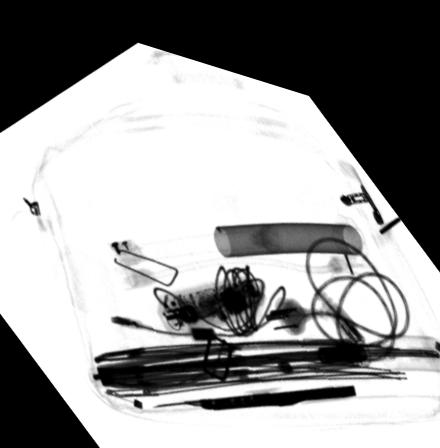Knife: (148, 361, 356, 397)
